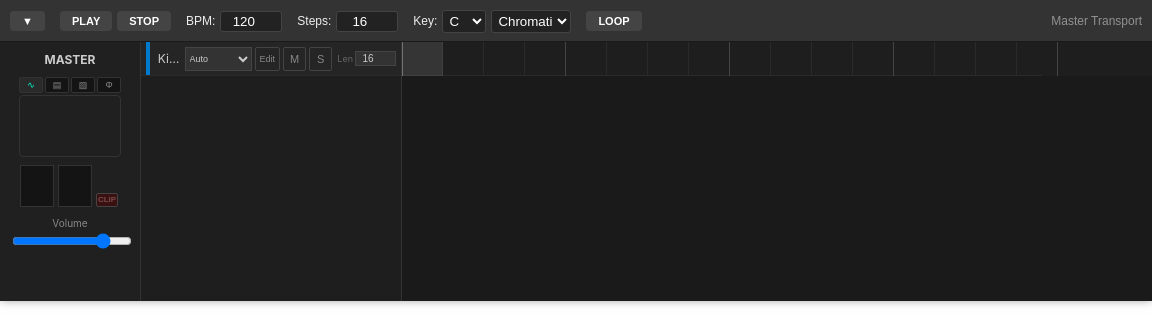
Test: SequencerDock — explicit Piano Roll / Drum Roll toggle in the open editor (F4 item 3) › switches the mounted editor and writes viewMode through history exactly once
Click the button "Edit": point(267, 58) [254,46,280,70]
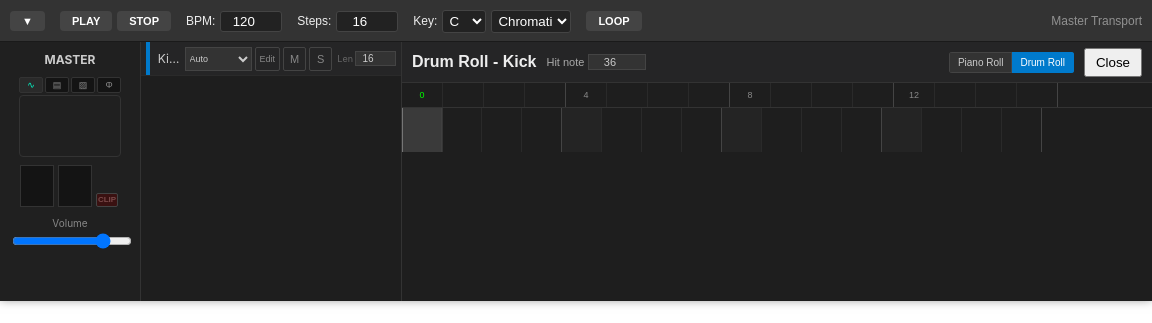
Result: the element with test id "drum-roll" is shown at [402,42,1151,301]
Click the button with test id "view-mode-toggle-piano": point(981, 62) [949,52,1012,72]
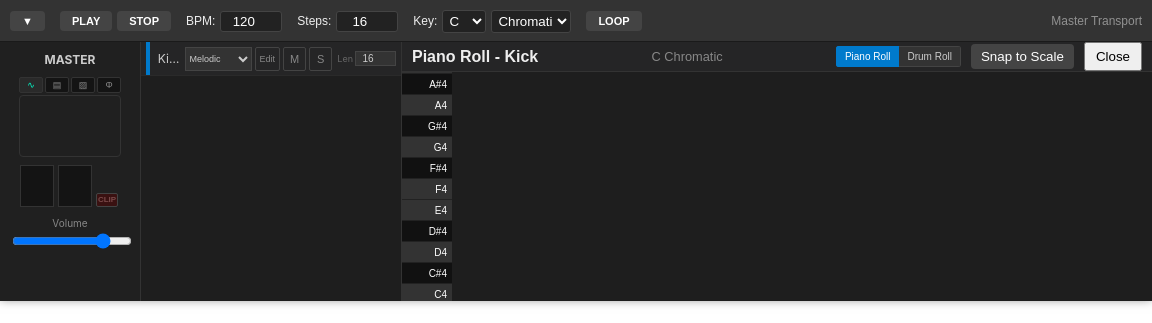
Result: the element with test id "piano-roll-scroll-container" is shown at [402,72,1151,301]
Result: the element with test id "drum-roll" is gone
Click the button with test id "view-mode-toggle-drum": point(930, 56) [900,46,961,67]
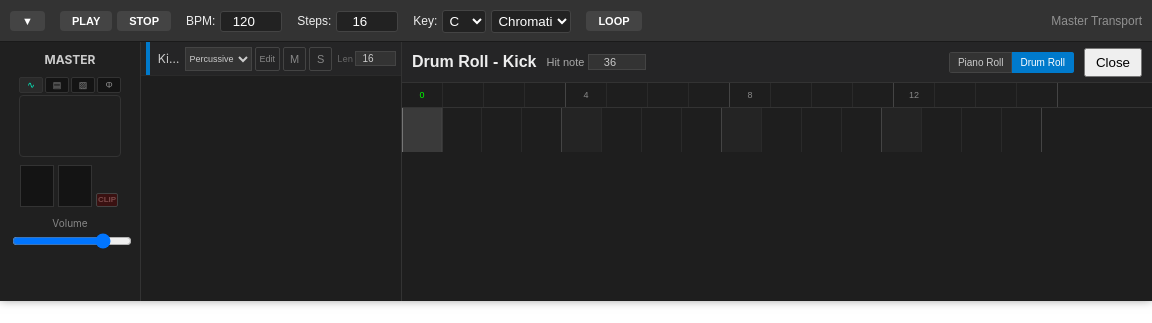
Result: the element with test id "drum-roll" is shown at [402,42,1151,301]
Result: the element with test id "piano-roll-scroll-container" is gone
